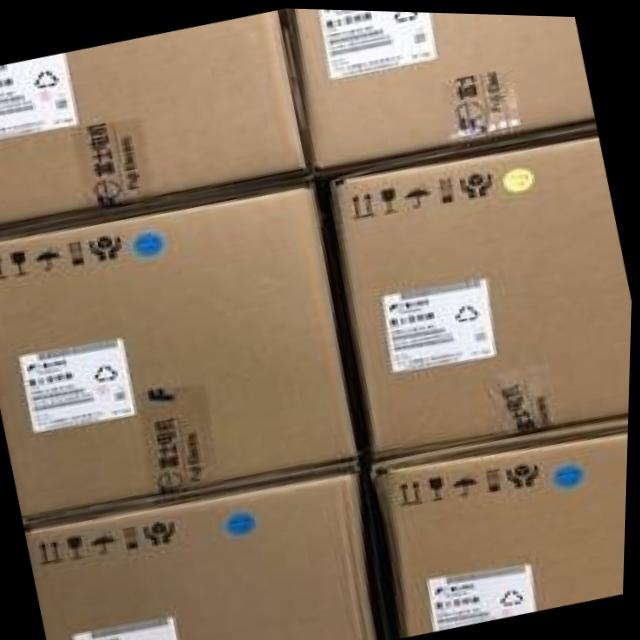box: (0, 178, 361, 524), (330, 129, 633, 458), (0, 9, 318, 232), (27, 463, 379, 640), (377, 412, 631, 635), (286, 7, 598, 175)
